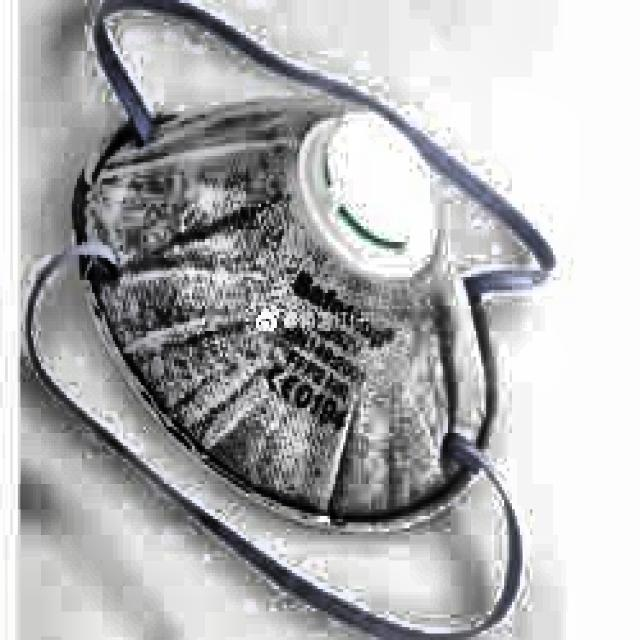trash: (29, 0, 558, 640)
